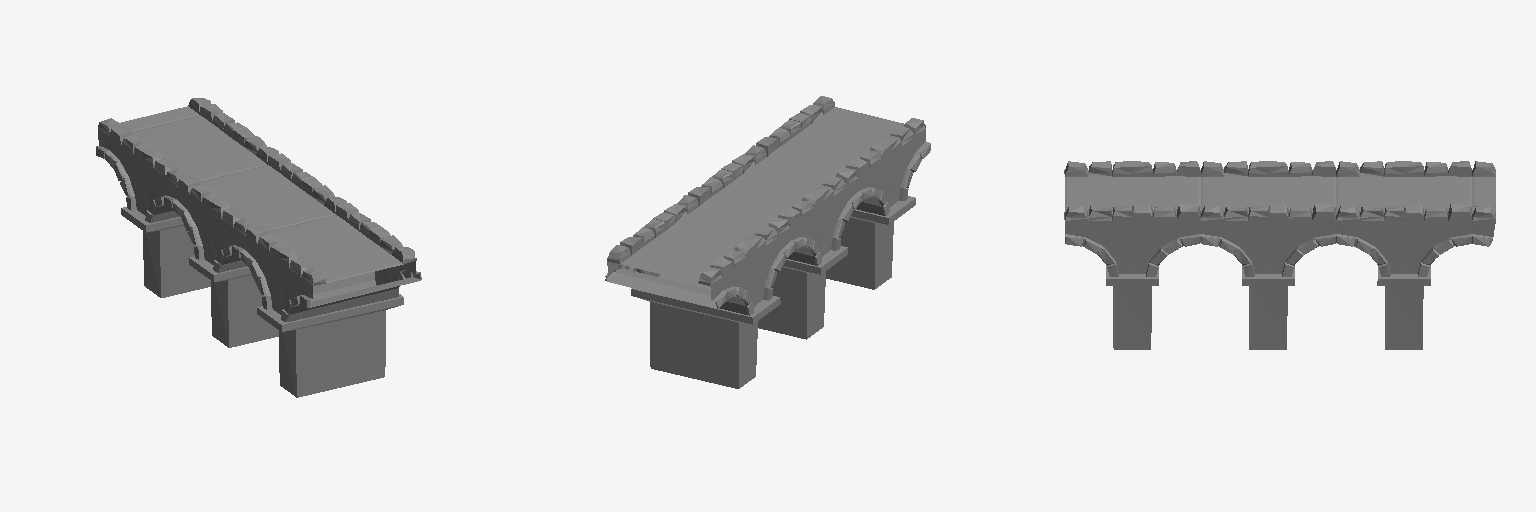
Rendered from Puente.obj.
3 views of the same model, side by side, from view 1: azimuth 30°, elevation 25°; view 2: azimuth 150°, elevation 25°; view 3: azimuth 270°, elevation 25° (orthographic).
Visible parts, largest first — view 1: Cube_001; view 2: Cube_001; view 3: Cube_001.
Part boxes in pixels (bbox=[...]): Cube_001: bbox=[96, 98, 421, 397]; Cube_001: bbox=[605, 96, 930, 388]; Cube_001: bbox=[1064, 161, 1495, 349].
Bounding box in the file's own units: 5.48 × 6.1 × 16.72.